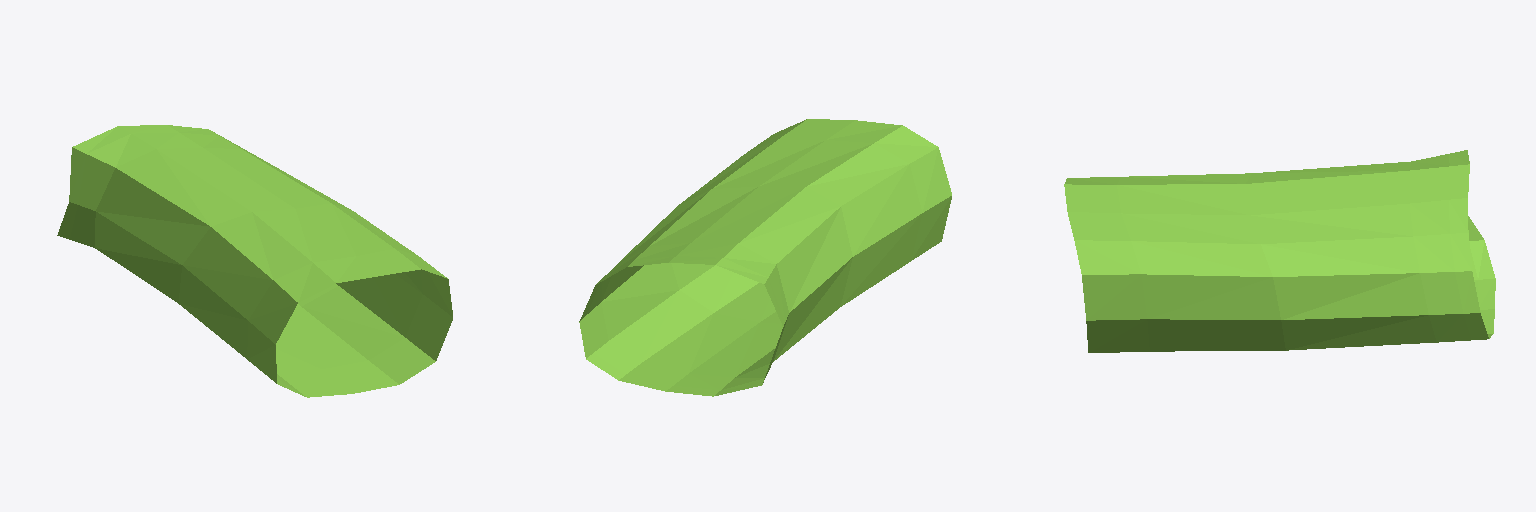
File: left_thigh.obj
3 renders of one model, left to right at view 1: azimuth 30°, elevation 25°; view 2: azimuth 150°, elevation 25°; view 3: azimuth 270°, elevation 25°, orthographic.
Parts seen in each view (by area): view 1: Stickman_Cube.008; view 2: Stickman_Cube.008; view 3: Stickman_Cube.008.
Part boxes in pixels (left/top/right/bottom): Stickman_Cube.008: left=57, top=125, right=452, bottom=397; Stickman_Cube.008: left=579, top=119, right=951, bottom=396; Stickman_Cube.008: left=1064, top=150, right=1495, bottom=352.
Size of the model in its own units: 0.6948 by 0.4661 by 1.29.